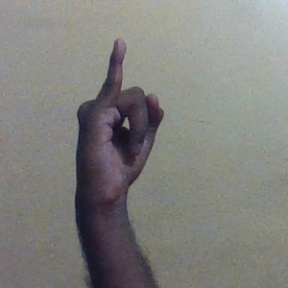I: (73, 37, 168, 197)
